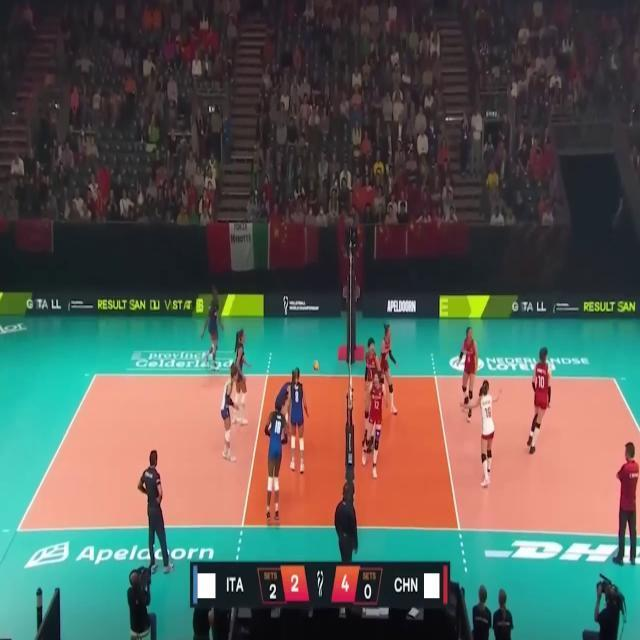volleyball: (312, 360, 318, 370)
